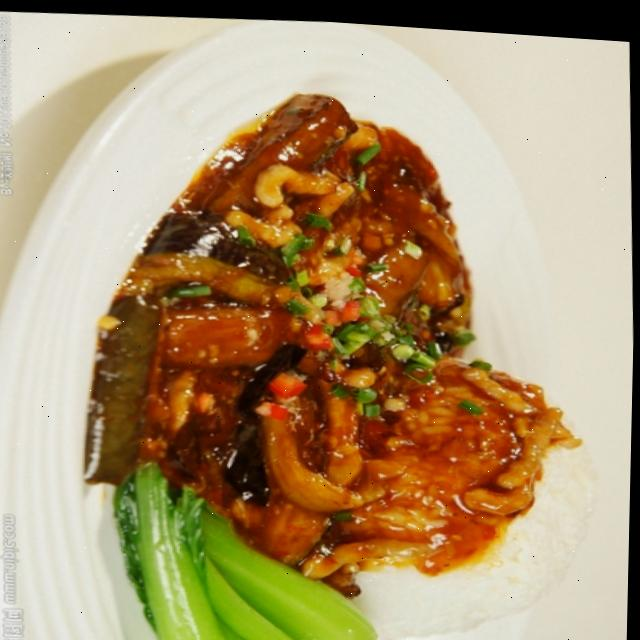鸡蛋料理: (49, 64, 583, 640)
